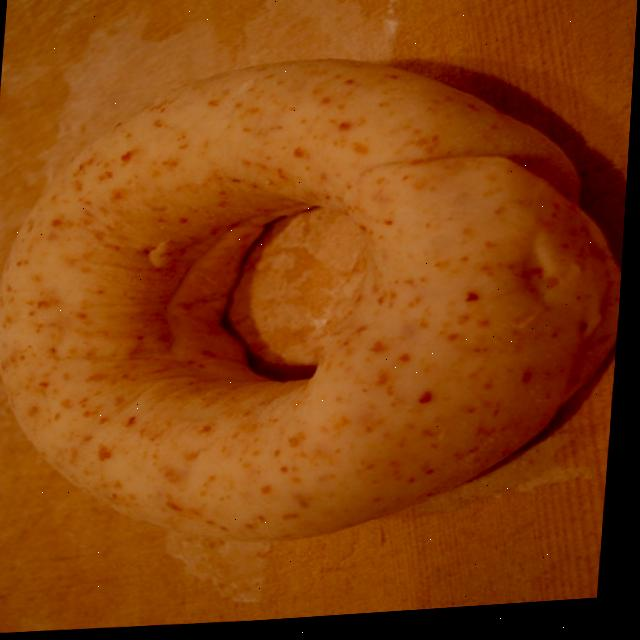面包点心: (0, 22, 619, 585)
